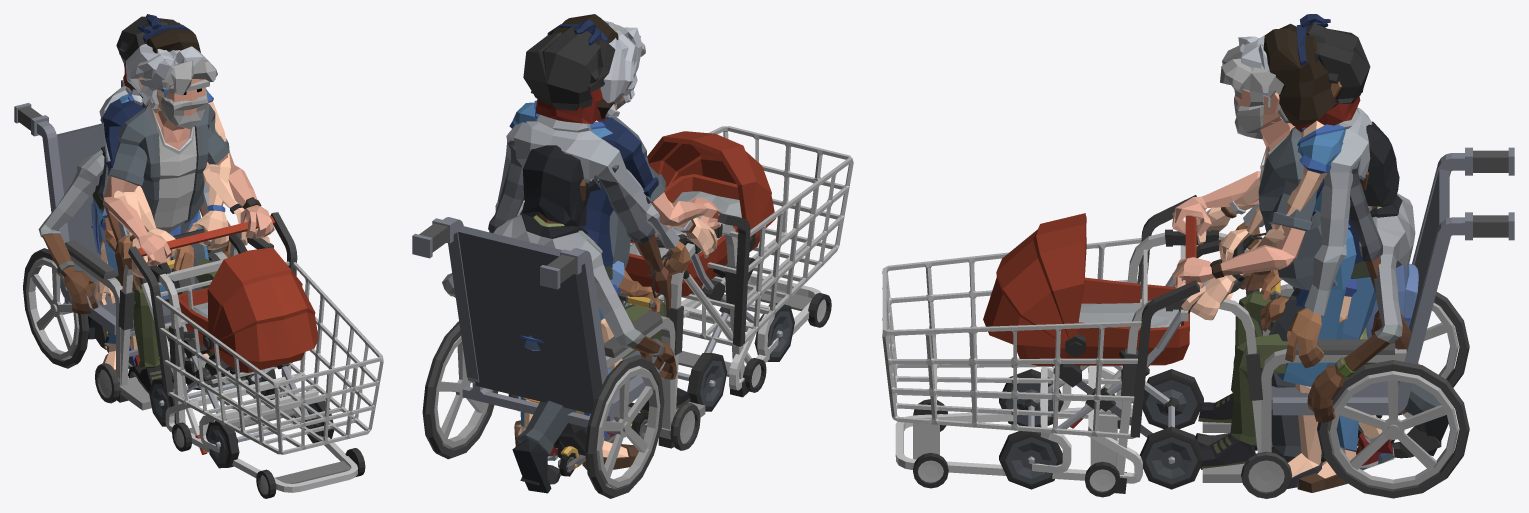
Rendered from human-characters-poses-2.glb.
3 views of the same model, side by side, from view 1: azimuth 30°, elevation 25°; view 2: azimuth 150°, elevation 25°; view 3: azimuth 270°, elevation 25° (orthographic). The views are drawn at different scales.
Parts seen in each view (by area): view 1: Character_16, Character_10, Character_11, Character_12, Character_15, Character_9, Character_13, Character_14; view 2: Character_11, Character_16, Character_10, Character_15, Character_12, Character_9, Character_13, Character_14; view 3: Character_16, Character_10, Character_11, Character_12, Character_15, Character_9, Character_14, Character_13.
Part boxes in pixels (left/top/right/bottom): Character_16: left=88, top=53, right=383, bottom=498; Character_10: left=119, top=14, right=334, bottom=468; Character_11: left=14, top=79, right=245, bottom=410; Character_12: left=92, top=44, right=294, bottom=441; Character_15: left=99, top=16, right=230, bottom=454; Character_9: left=94, top=60, right=218, bottom=389; Character_13: left=102, top=207, right=194, bottom=382; Character_14: left=91, top=198, right=139, bottom=365; Character_11: left=412, top=145, right=705, bottom=498; Character_16: left=512, top=19, right=853, bottom=493; Character_10: left=509, top=14, right=794, bottom=458; Character_15: left=495, top=26, right=751, bottom=455; Character_12: left=514, top=20, right=749, bottom=469; Character_9: left=472, top=88, right=671, bottom=485; Character_13: left=547, top=260, right=660, bottom=476; Character_14: left=518, top=284, right=622, bottom=459; Character_16: left=882, top=44, right=1454, bottom=497; Character_10: left=983, top=14, right=1356, bottom=489; Character_11: left=1198, top=121, right=1514, bottom=498; Character_12: left=1111, top=35, right=1376, bottom=493; Character_15: left=1070, top=23, right=1382, bottom=462; Character_9: left=1195, top=88, right=1441, bottom=458; Character_14: left=1339, top=263, right=1418, bottom=467; Character_13: left=1254, top=206, right=1394, bottom=470.
Size of the model in its own units: 0.9154 by 1.86 by 2.39.
Materials: 1 (1 with a texture image).
